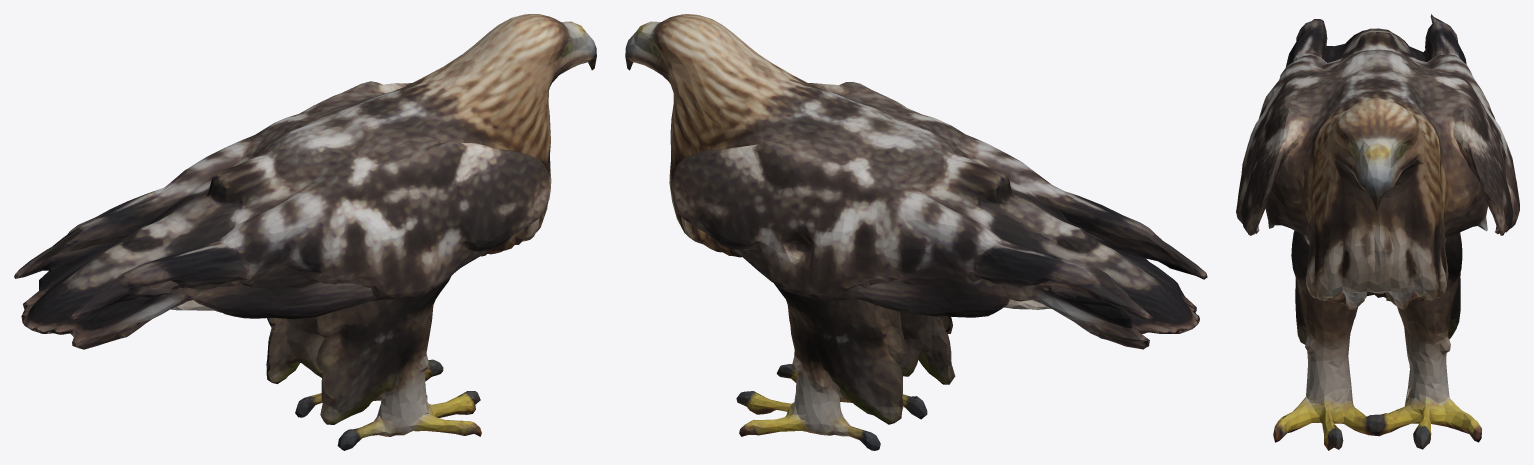
File: berkut.glb
3 renders of one model, left to right at view 1: azimuth 30°, elevation 25°; view 2: azimuth 150°, elevation 25°; view 3: azimuth 270°, elevation 25°, orthographic. The views are drawn at different scales.
Size of the model in its own units: 99.47 by 61.17 by 39.93.
1 material, 1 textured.
